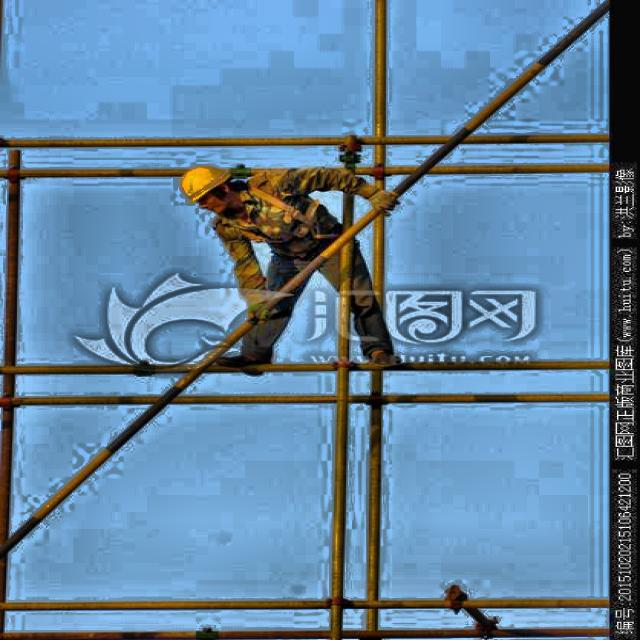helmet: (170, 160, 248, 214)
